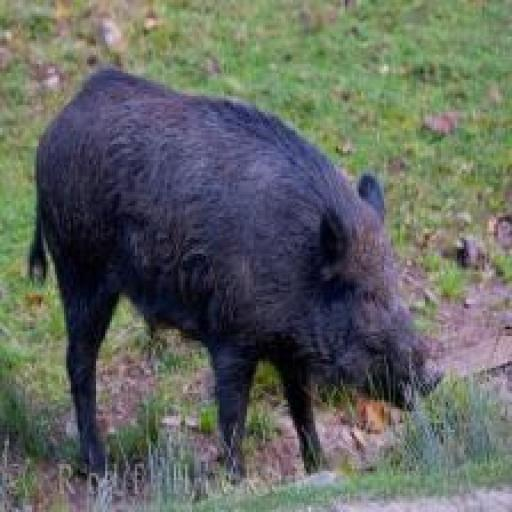Pig: (30, 66, 446, 479)
